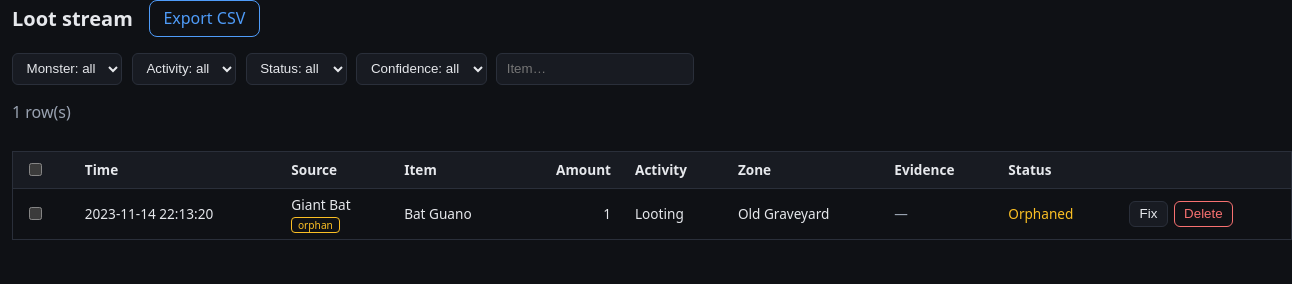
Test: LootPage › hides the publish button when publishing is not configured
Expected: the text "Bat Guano" is shown, 392,188 -> 516,240
Click the checkbox named "Select row 7". click: (36, 214)
box: 29,207 -> 42,220
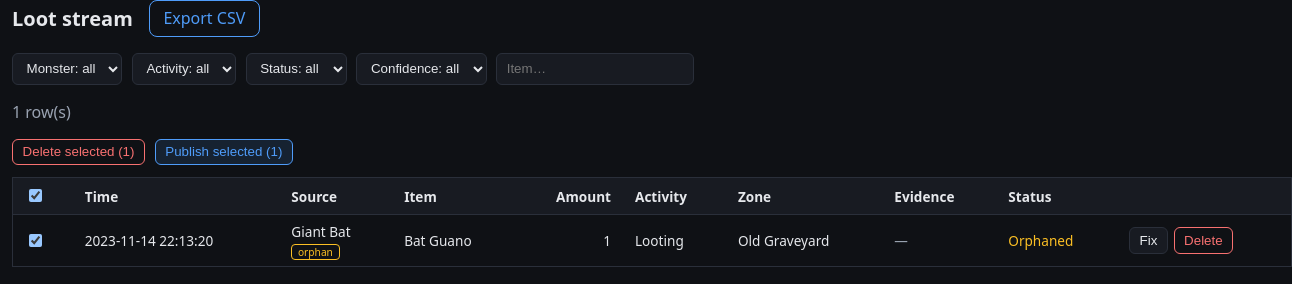
Expected: the button "Publish selected (1)" is disabled, 155,139 -> 293,165
